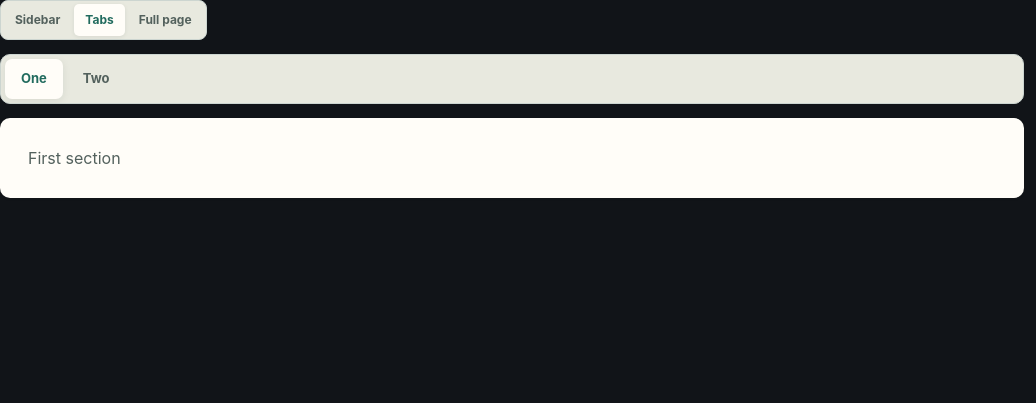
it: DetailView switches from tabs to full-page sections
Expected: the element showing "One Two" is shown, [0,54,1024,104]
Click the button "Full page".
click(165, 20)  # box [128,4,203,36]
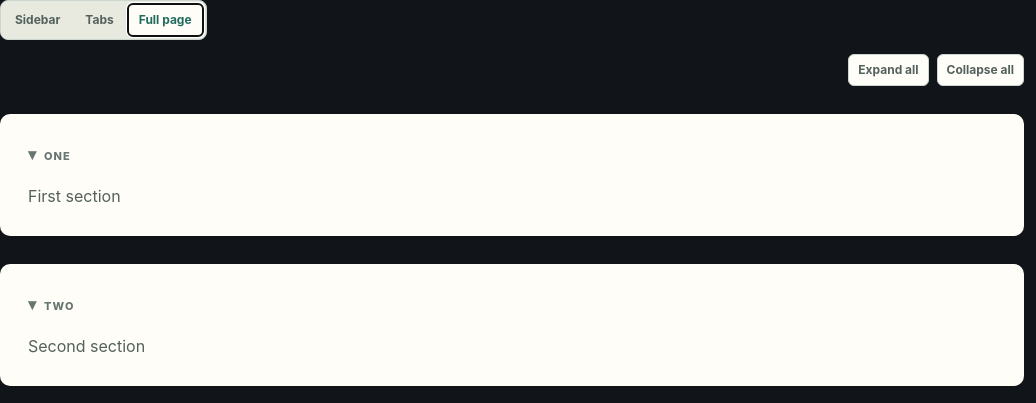
Expected: the text "First section" is shown, [28,186,121,206]
Expected: the text "Second section" is shown, [28,336,145,356]
